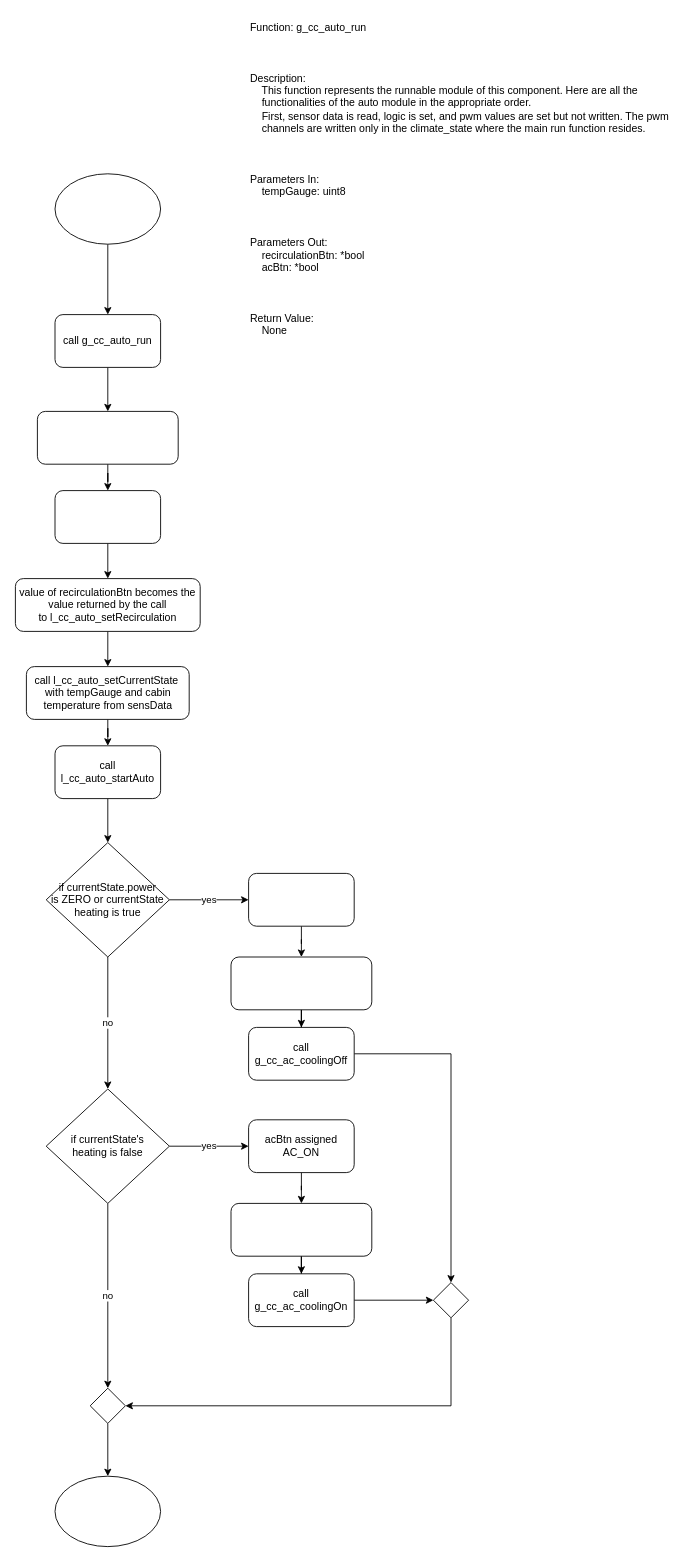
The diagram is 686 pixels wide and 1562 high, and some of its shapes have lost their labels. Each missing label, with the box of its shape:
acBtn assigned AC_OFF: (248, 873, 354, 926)
call g_cc_ac_set_AC_ON_OFF of AC_OFF: (230, 956, 372, 1010)
call g_cc_ac_set_AC_ON_OFF of AC_ON: (230, 1203, 372, 1256)
call g_cc_auto_getSensorData of sensData: (37, 411, 178, 464)
print sensor readings: (54, 490, 161, 543)
